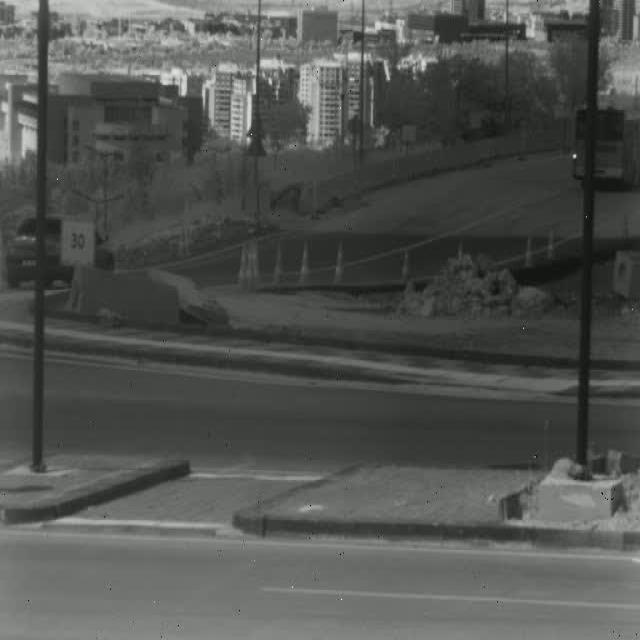Bus: (572, 98, 640, 191)
Car: (8, 216, 116, 290)
